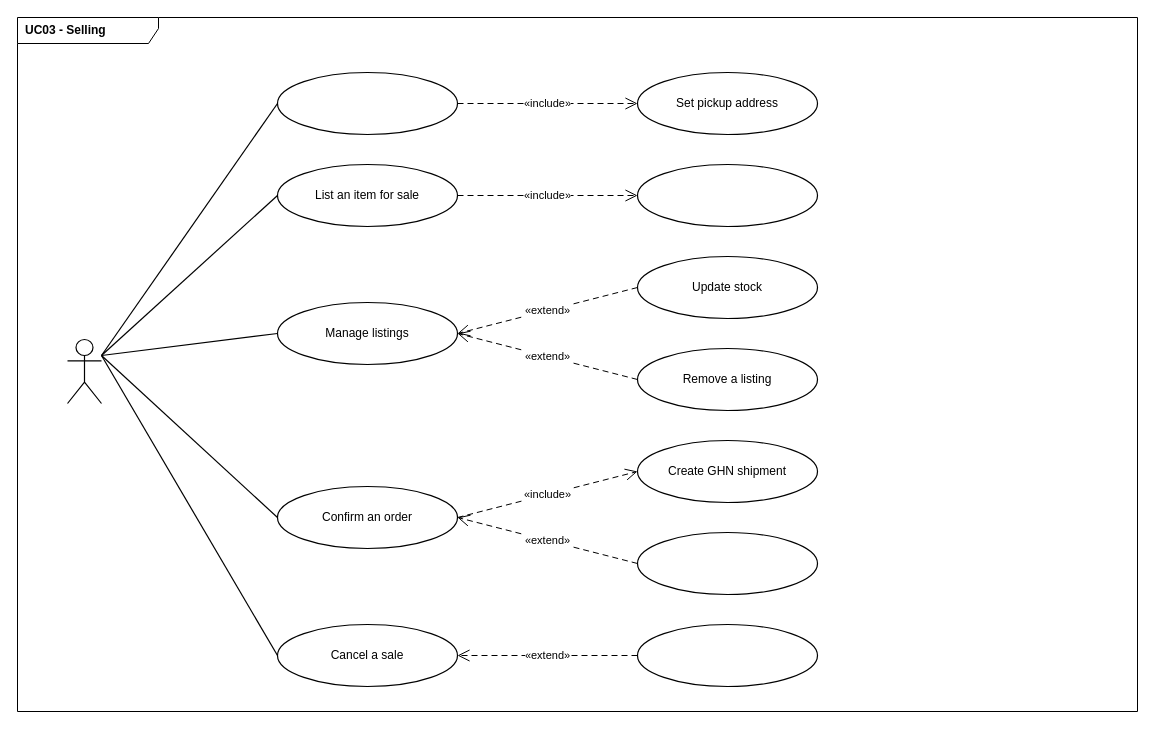
Some shapes in this 1155 by 729 pixel diagram are drawn without their labels. Each missing label, with the centre of its shape:
Refund the buyer: the point at 727,655
Retry failed shipment: the point at 727,563
Seller: the point at 84,371
Set up shop: the point at 367,103
Upload photos: the point at 727,195
